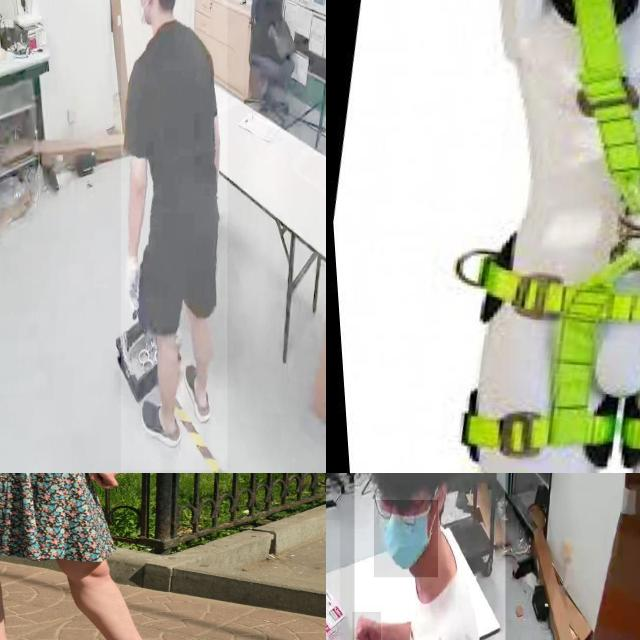Harness: (457, 0, 640, 456)
face_mask: (374, 500, 438, 577)
glasses: (372, 484, 423, 530)
hand_glove: (124, 251, 142, 314)
hand_noglove: (352, 612, 381, 640)
person: (121, 0, 228, 471), (354, 473, 505, 640)
shoes: (136, 393, 183, 446), (182, 358, 212, 424)
